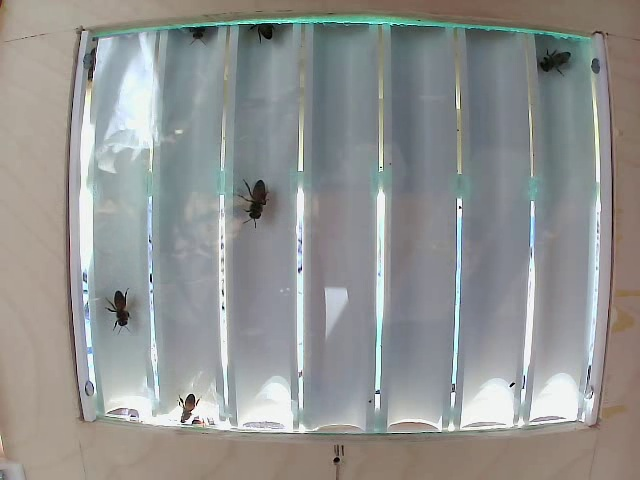bee: (238, 178, 274, 221), (104, 291, 140, 326)
